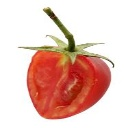tomato: (27, 46, 110, 119)
